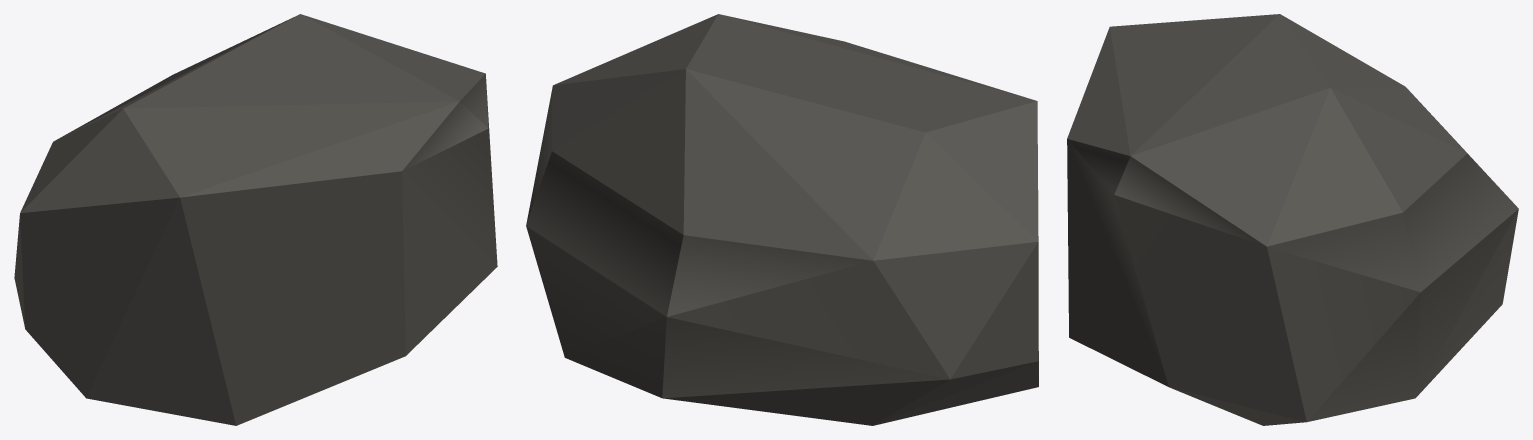
File: env_rock3.gltf
The picture shows the model from 3 angles, left to right: view 1: azimuth 30°, elevation 25°; view 2: azimuth 150°, elevation 25°; view 3: azimuth 270°, elevation 25°; orthographic projection. The views are drawn at different scales.
Parts seen in each view (by area): view 1: env_rock3; view 2: env_rock3; view 3: env_rock3.
Part boxes in pixels (x1,y1,x2,y2): env_rock3: (14, 14, 497, 425); env_rock3: (526, 14, 1038, 425); env_rock3: (1067, 14, 1518, 425).
Bounding box in the file's own units: 0.4761 × 0.3079 × 0.384.
1 material, 1 textured.
